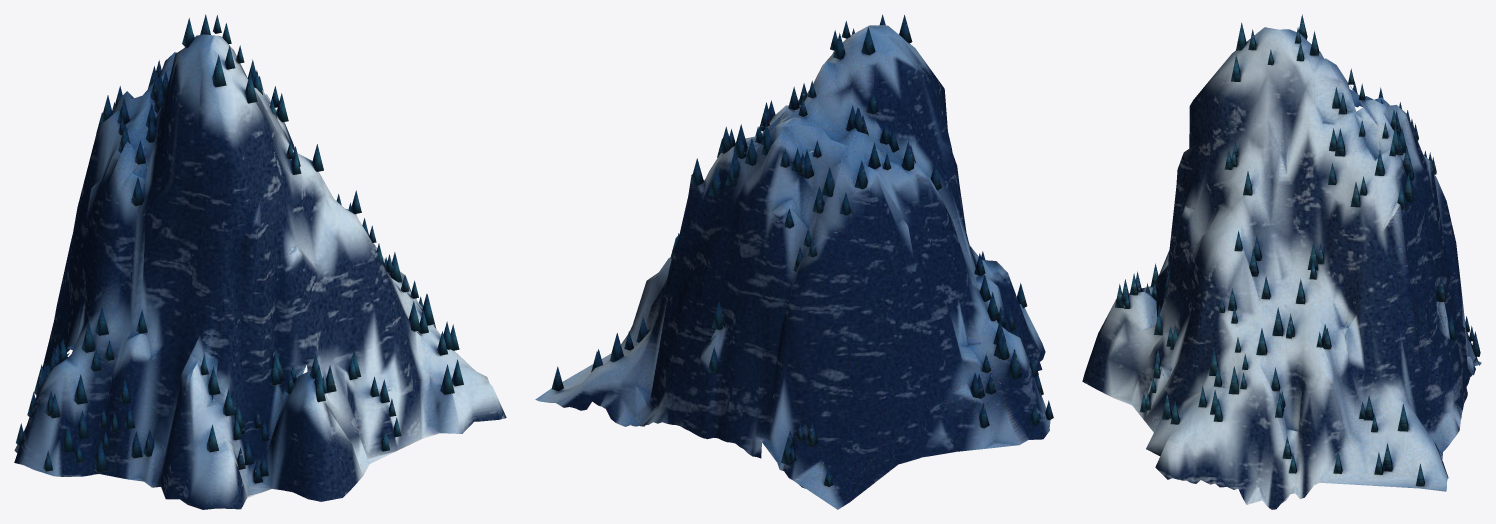
File: mountainv4.gltf
The picture shows the model from 3 angles, left to right: view 1: azimuth 30°, elevation 25°; view 2: azimuth 150°, elevation 25°; view 3: azimuth 270°, elevation 25°; orthographic projection. The views are drawn at different scales.
Parts seen in each view (by area): view 1: mountainv4; view 2: mountainv4; view 3: mountainv4.
Boxes of the visible parts, box(x1,y1,x2,y2) form: mountainv4: box(14, 14, 506, 509); mountainv4: box(535, 14, 1053, 509); mountainv4: box(1082, 14, 1481, 509).
Bounding box in the file's own units: 351 × 320 × 300.
Materials: 1 (1 with a texture image).
